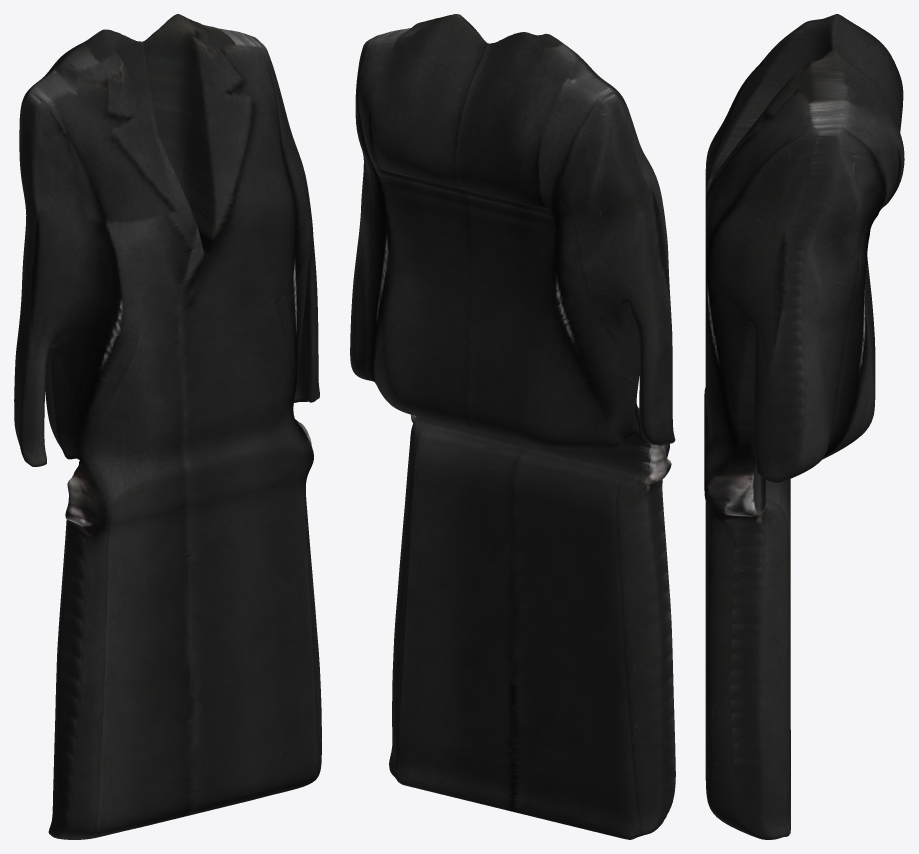
File: NF009-worn-v3.glb
3 renders of one model, left to right at view 1: azimuth 30°, elevation 25°; view 2: azimuth 150°, elevation 25°; view 3: azimuth 270°, elevation 25°, orthographic. The views are drawn at different scales.
Parts seen in each view (by area): view 1: NF009_worn_photo_fitted; view 2: NF009_worn_photo_fitted; view 3: NF009_worn_photo_fitted.
Boxes of the visible parts, x1,y1,x2,y2 form: NF009_worn_photo_fitted: (14,14,321,839); NF009_worn_photo_fitted: (350,14,675,839); NF009_worn_photo_fitted: (704,14,904,839).
Bounding box in the file's own units: 0.5329 × 1.32 × 0.3165.
Materials: 1 (1 with a texture image).
